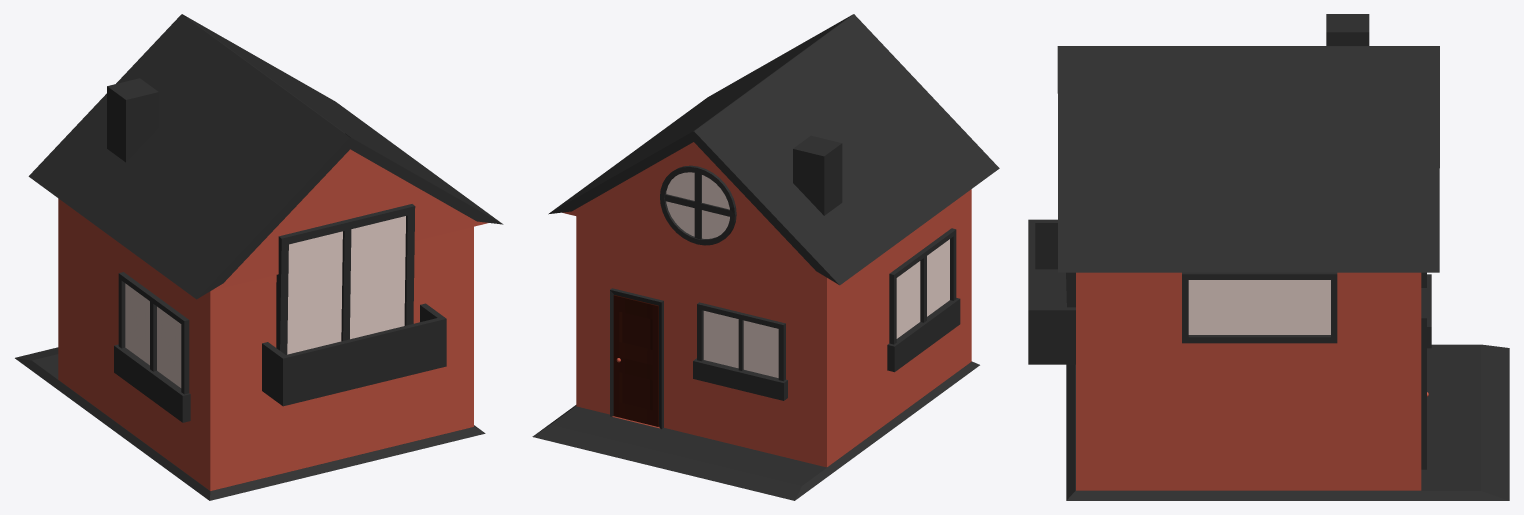
File: tinyhouse.obj
3 views of the same model, side by side, from view 1: azimuth 30°, elevation 25°; view 2: azimuth 150°, elevation 25°; view 3: azimuth 270°, elevation 25° (orthographic). The views are drawn at different scales.
Parts seen in each view (by area): view 1: Cube; view 2: Cube; view 3: Cube.
Boxes of the visible parts, x1,y1,x2,y2 form: Cube: (15, 14, 503, 500); Cube: (532, 14, 999, 500); Cube: (1028, 14, 1509, 500).
Bounding box in the file's own units: 2.33 × 2.41 × 2.79.
